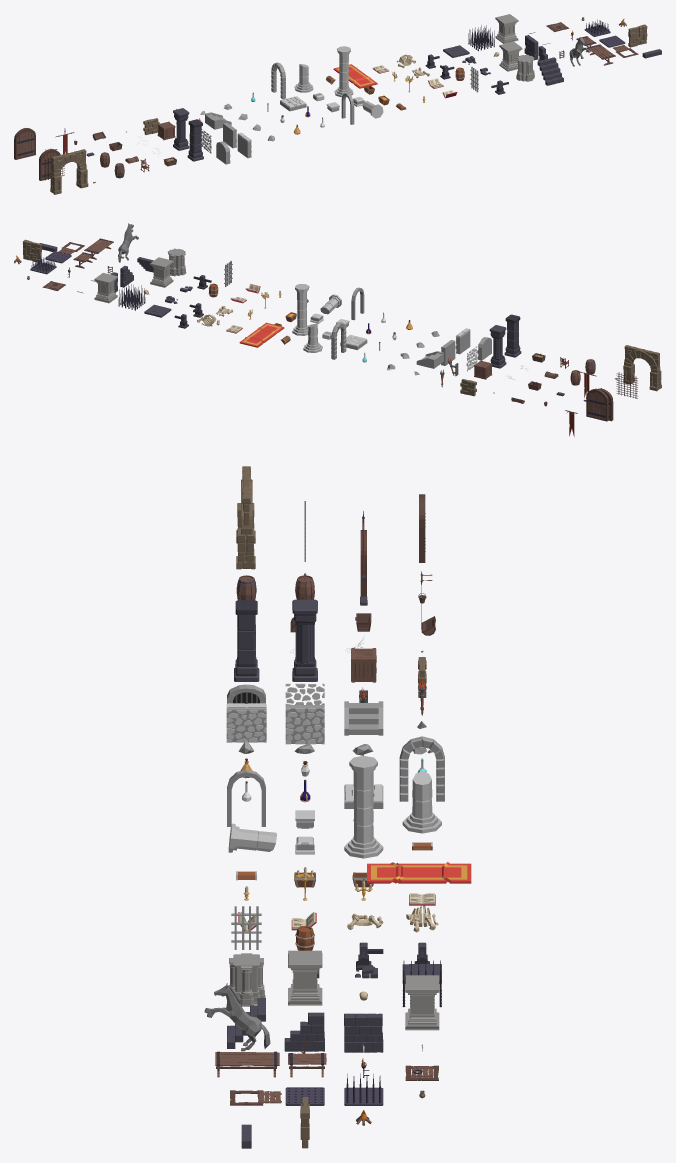
The model's file is ModularDangeonPack.dae.
The picture shows the model from 3 angles, top to bottom: view 1: azimuth 30°, elevation 25°; view 2: azimuth 150°, elevation 25°; view 3: azimuth 270°, elevation 25°; orthographic projection. The views are drawn at different scales.
Parts seen in each view (by area): view 1: Arch, Arch_Door_bottompivot, Column.001, Column, Pedestal.001, Column2, Stairs_Modular, Spikes, Pedestal2, Carpet, Pedestal, Arch_Door (+9 smaller); view 2: Arch, Arch_Door_bottompivot, Column.001, Carpet, Column, Pedestal.001, Pedestal2, Column2, Spikes, Pedestal, Entrance2, Wall_Modular (+4 smaller); view 3: Column.001, Carpet, Column2, Pedestal2, Pedestal.001, Column, Arch, StoneWall_top, Pedestal, StoneWall, Stairs_SideCoverWall, ColumnBroken2 (+6 smaller).
Boxes of the visible parts, x1,y1,x2,y2 form: Arch: (50,149,88,194); Arch_Door_bottompivot: (14,128,35,159); Column.001: (334,46,353,97); Column: (187,119,203,161); Pedestal.001: (495,14,518,43); Column2: (173,108,189,150); Stairs_Modular: (537,57,563,85); Spikes: (468,25,494,51); Pedestal2: (499,41,522,71); Carpet: (333,64,377,88); Pedestal: (516,54,534,81); Arch_Door: (39,149,60,180); Arch: (623,345,661,391); Arch_Door_bottompivot: (586,388,608,421); Column.001: (292,284,309,335); Carpet: (239,322,284,347); Column: (504,314,521,357); Pedestal.001: (94,273,117,303); Pedestal2: (150,257,173,287); Column2: (489,325,506,368); Spikes: (118,283,145,310); Pedestal: (168,248,186,276); Entrance2: (331,322,346,359); Wall_Modular: (22,239,41,262); Column.001: (344,755,383,858); Carpet: (367,862,471,883); Column2: (292,599,317,681); Pedestal2: (288,950,322,1005); Pedestal.001: (405,975,439,1030); Column: (234,600,259,681); Arch: (236,466,255,569); StoneWall_top: (226,703,266,742); Pedestal: (229,953,265,1006); StoneWall: (285,705,324,744); Stairs_SideCoverWall: (344,1013,383,1052); ColumnBroken2: (402,771,441,833).
Size of the model in its own units: 72.01 by 13.67 by 7.79.
